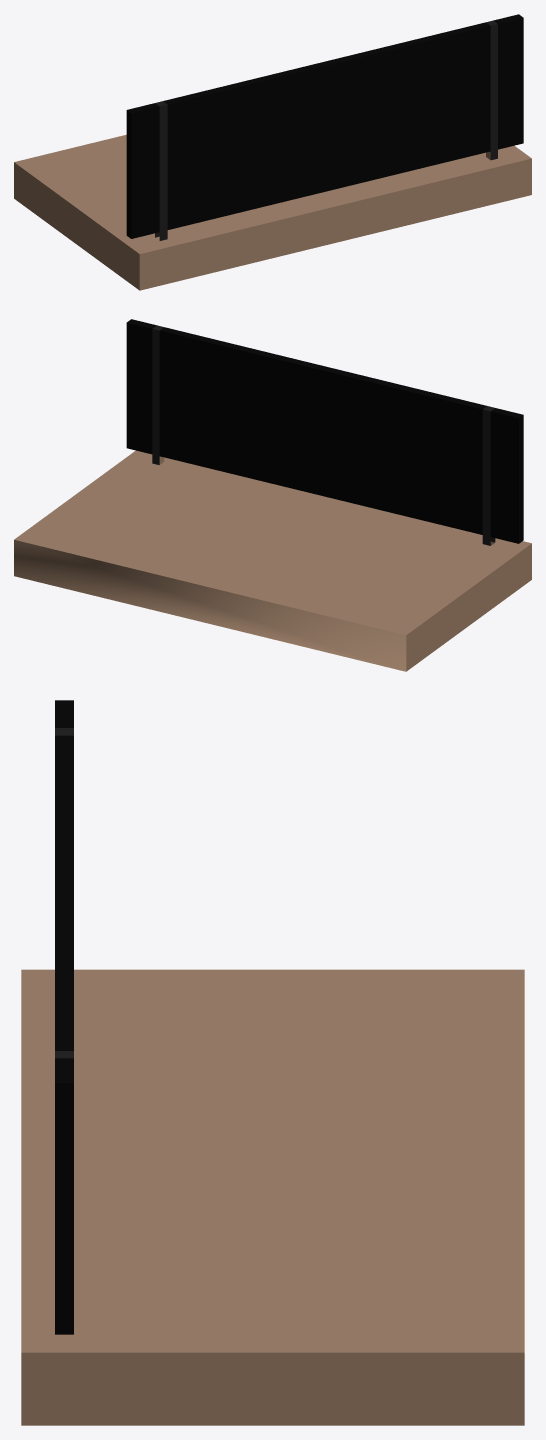
The model's file is Modular_Balcony_MiddlePiece.FBX.
3 renders of one model, top to bottom at view 1: azimuth 30°, elevation 25°; view 2: azimuth 150°, elevation 25°; view 3: azimuth 270°, elevation 25°, orthographic. The views are drawn at different scales.
Visible parts, largest first — view 1: Modular_Balcony_MiddlePiece; view 2: Modular_Balcony_MiddlePiece; view 3: Modular_Balcony_MiddlePiece.
Boxes of the visible parts, bbox=[...] form: Modular_Balcony_MiddlePiece: bbox=[14, 14, 531, 290]; Modular_Balcony_MiddlePiece: bbox=[14, 319, 531, 671]; Modular_Balcony_MiddlePiece: bbox=[21, 700, 524, 1425].
Bounding box in the file's own units: 22.86 × 9.53 × 12.7.
